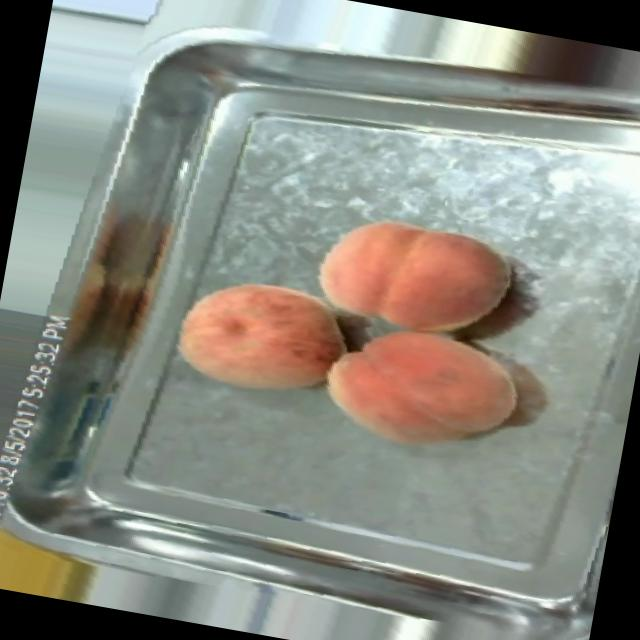Fruit: (306, 308, 534, 474), (301, 197, 527, 351), (157, 256, 364, 420)
